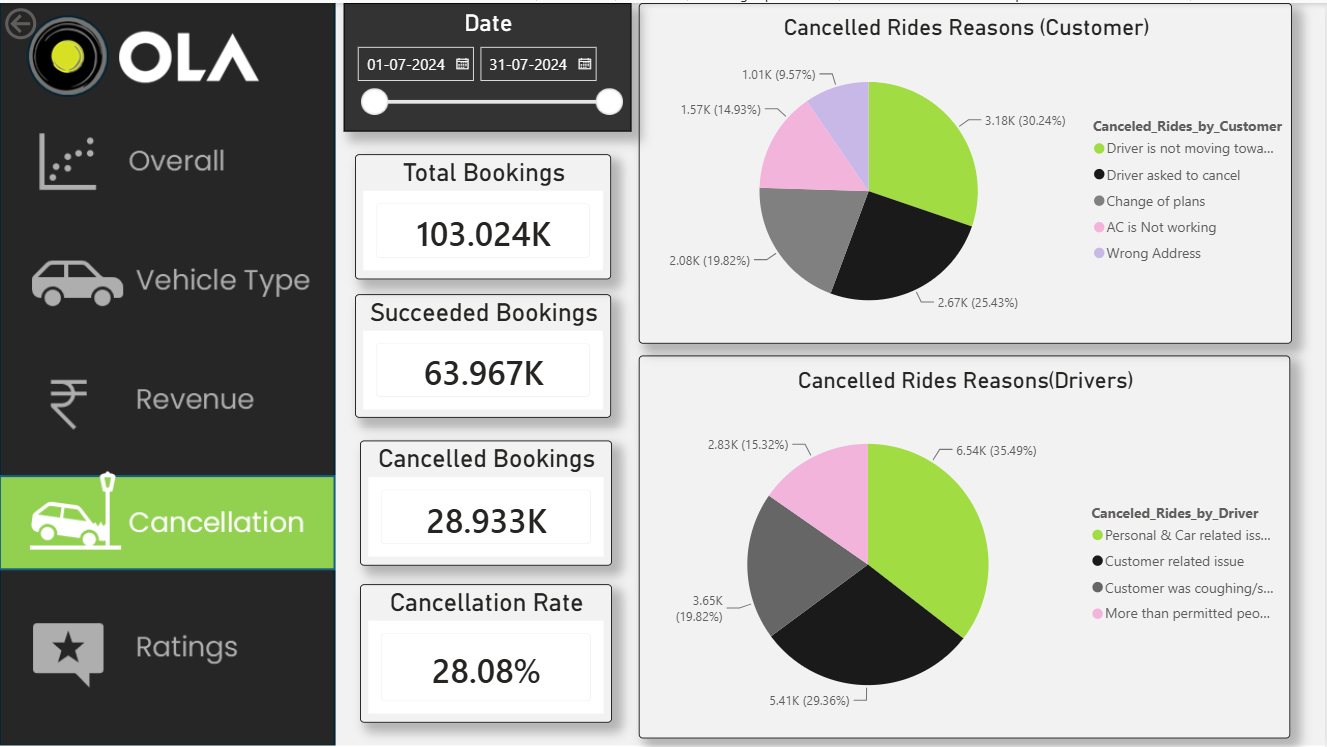

The dashboard page shown, as its layout file describes it:
{"tool":"powerbi","page":{"name":"Cancellation","canvas":[1280,720],"ordinal":3},"visuals":[{"type":"actionButton","box":[0,575.6,324.4,92.2],"z":0},{"type":"actionButton","box":[0,580,325,92.5],"z":1000},{"type":"actionButton","box":[0,220,324.4,92.2],"z":2000},{"type":"actionButton","box":[0,107.5,325,92.5],"z":3000},{"type":"actionButton","box":[0,340,324.4,92.2],"z":4000},{"type":"pieChart","title":"Cancelled Rides Reasons (Customer)","fields":{"Category":["July.Canceled_Rides_by_Customer"],"Y":["CountNonNull(July.Canceled_Rides_by_Customer)"]},"box":[616.7,0,630.6,329.2],"z":5000},{"type":"pieChart","title":"Cancelled Rides Reasons(Drivers)","fields":{"Category":["July.Canceled_Rides_by_Driver"],"Y":["CountNonNull(July.Canceled_Rides_by_Driver)"]},"box":[616.7,340.3,629.2,369.4],"z":6000},{"type":"slicer","title":"Date","fields":{"Values":["July.Date"]},"box":[331.9,0,277.8,123.6],"z":7000},{"type":"cardVisual","title":"Total Bookings","fields":{"Data":["Count(July.Booking_ID)"]},"box":[343.1,145.8,247.2,120.8],"z":8000},{"type":"cardVisual","title":"Succeeded Bookings","fields":{"Data":["CountNonNull(July.Booking_Value)"]},"box":[343.1,280.6,247.2,119.4],"z":9000},{"type":"cardVisual","title":"Cancelled Bookings","fields":{"Data":["CountNonNull(July.Booking_Value)"]},"box":[347.2,422.2,243.1,120.8],"z":10000},{"type":"cardVisual","title":"Cancellation Rate","fields":{"Data":["July.Cancelled Percentage"]},"box":[347.2,561.1,243.1,133.3],"z":11000},{"type":"actionButton","box":[0,0,100,40],"z":12000}]}

Visuals, with their boxes on the page's 1280x720 design canvas (x1, y1, x2, y2). These are canvas units, not pixel positions in the 1327x747 screenshot, which may show the page scaled, cropped or inside an application window:
actionButton: [0, 576, 324, 668]
actionButton: [0, 580, 325, 672]
actionButton: [0, 220, 324, 312]
actionButton: [0, 108, 325, 200]
actionButton: [0, 340, 324, 432]
"Cancelled Rides Reasons (Customer)" pieChart: [617, 0, 1247, 329]
"Cancelled Rides Reasons(Drivers)" pieChart: [617, 340, 1246, 710]
"Date" slicer: [332, 0, 610, 124]
"Total Bookings" cardVisual: [343, 146, 590, 267]
"Succeeded Bookings" cardVisual: [343, 281, 590, 400]
"Cancelled Bookings" cardVisual: [347, 422, 590, 543]
"Cancellation Rate" cardVisual: [347, 561, 590, 694]
actionButton: [0, 0, 100, 40]
